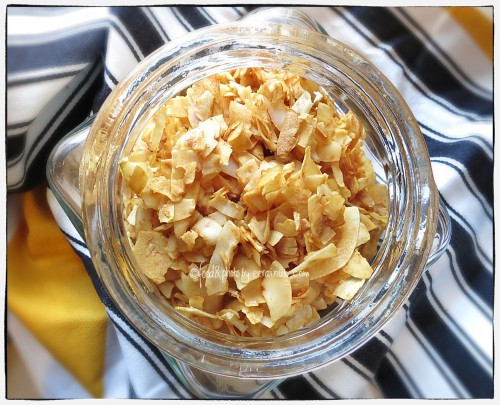bacon: (182, 122, 273, 204)
